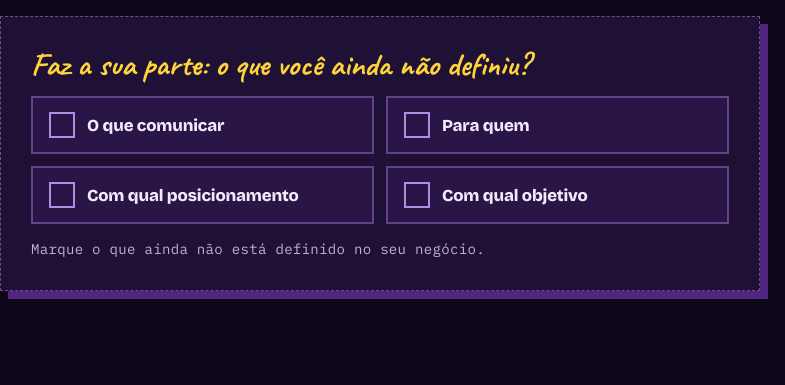
Test: Lacunas (marque o que falta) › marcar atualiza o contador, o aria-pressed e o link do WhatsApp
Click the button "Para quem".
click(486, 125)  # box 386,96 -> 729,154
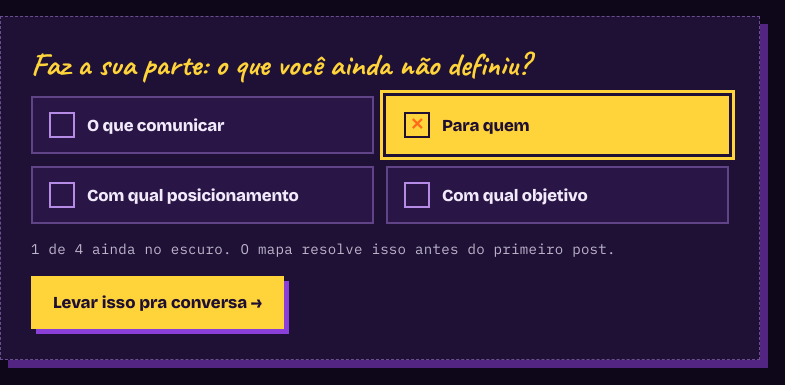
Expected: the text "1 de 4" is shown, 31,240 -> 616,258
